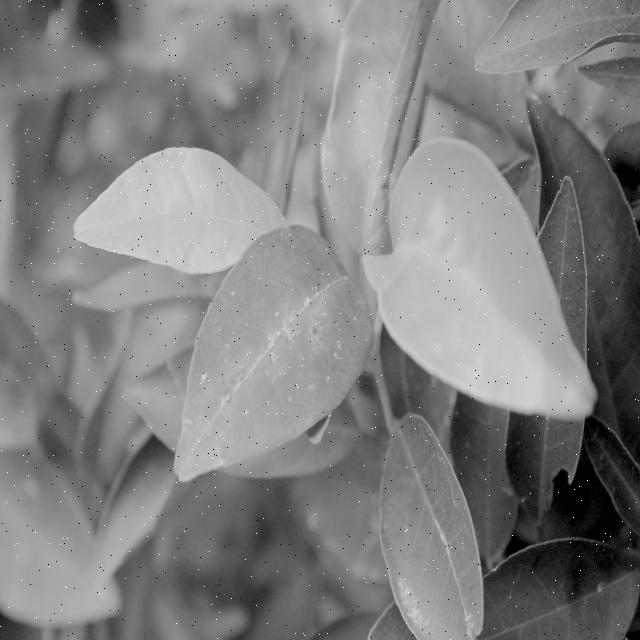canker: (192, 271, 354, 449)
